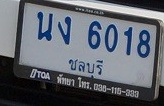txt05: (56, 15, 72, 45)
txt20: (36, 10, 54, 42)
